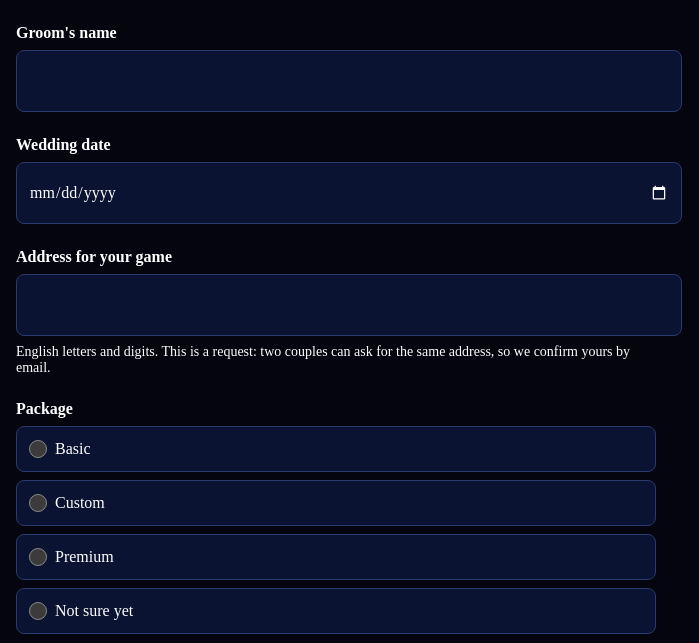
Scenario: OrderPage (component): address field › test_slug_status_live: surrounding spaces are ignored
(page scrolled)
Type " DanAndShelly " into the field labelled "Address for your game". click: coordinates (349, 305)
box: [16,274,682,336]
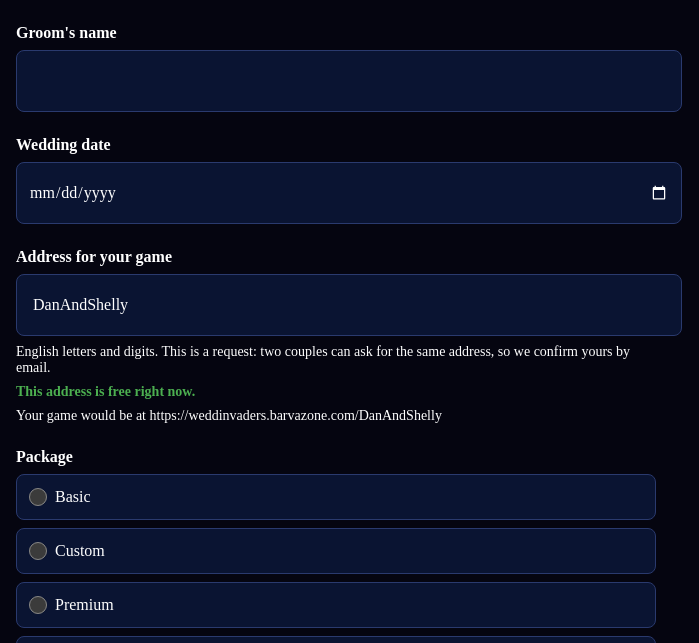
expect the text with test id "order-slug-preview" shows "https://weddinvaders.barvazone.com/DanAndShelly": met, box [16,408,442,423]
